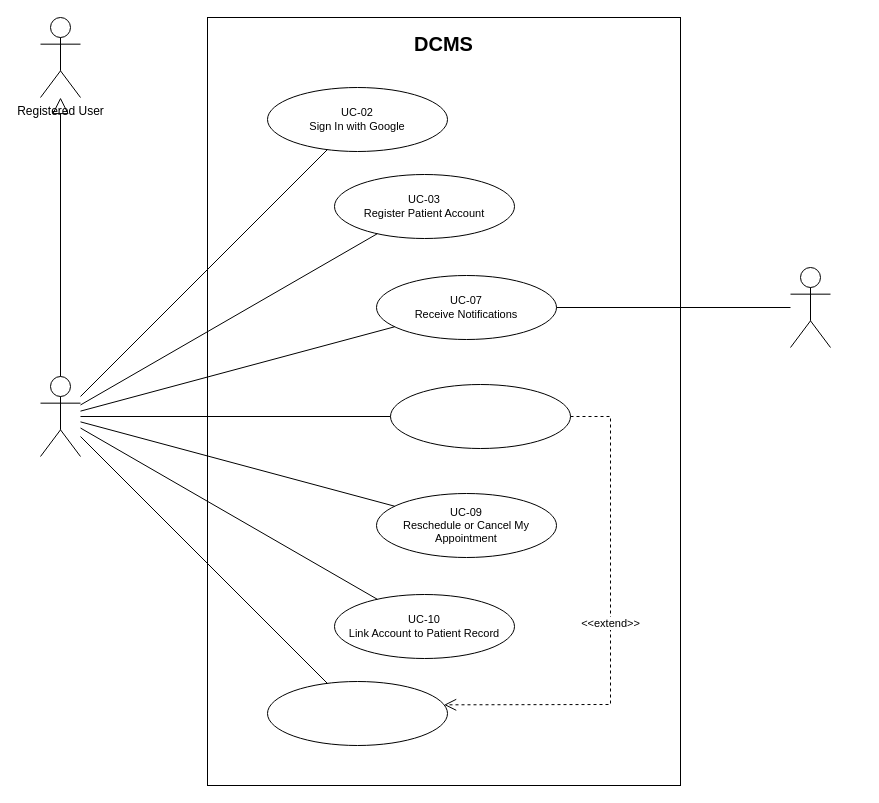
This 879x803 diagram has some shape labels left out. Here are the shapes that lost their labels. From the top down, the centre of each, then its label:
At (x=810, y=307): "Notification Service".
At (x=60, y=416): "Guest".
At (x=480, y=416): "UC-08 Book Appointment Online".
At (x=357, y=713): "UC-13 Manage Family Members".
